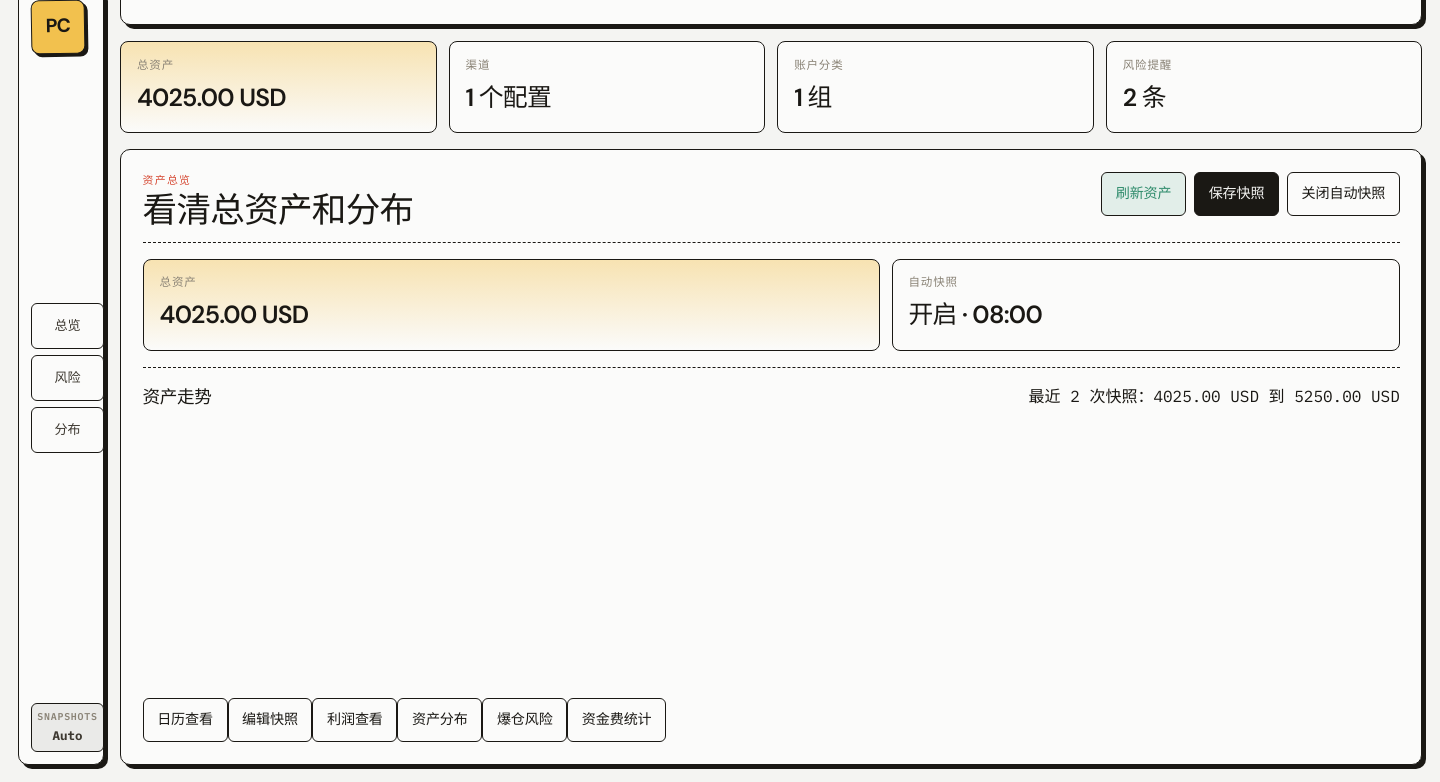
switches liquidation risk panel to margin balance risk by channel
(page scrolled)
Click the button "爆仓风险": (525, 720) x1=482 y1=698 x2=567 y2=742
(page scrolled)
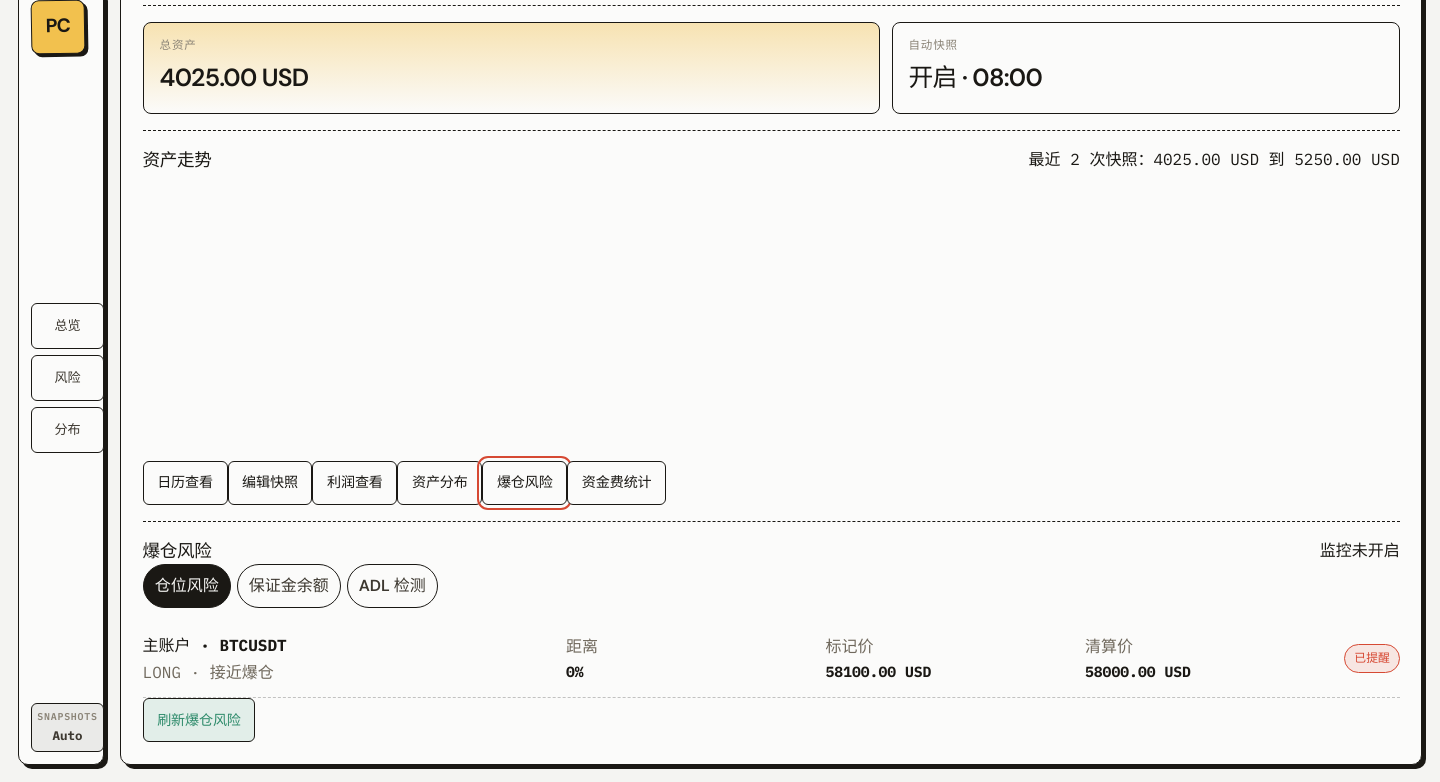
Now the tab "仓位风险" is shown, box x1=143 y1=564 x2=231 y2=608
Click the tab "保证金余额": (289, 586) x1=237 y1=564 x2=341 y2=608
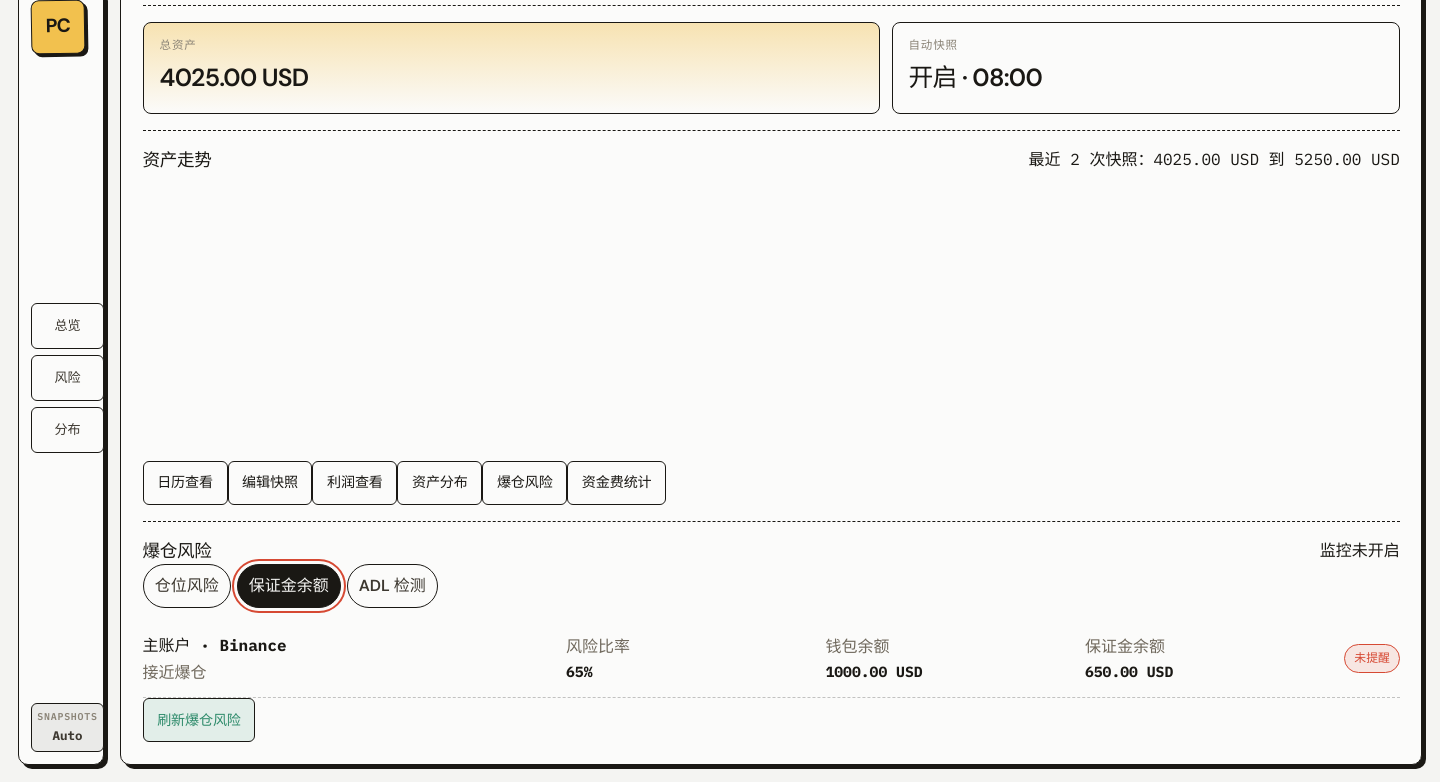
Now the tab "保证金余额" is shown, box x1=237 y1=564 x2=341 y2=608
Now the panel named "爆仓风险保证金余额" is shown, box x1=143 y1=620 x2=1400 y2=698
Now the text "主账户 · Binance" is shown, box x1=143 y1=635 x2=287 y2=655
